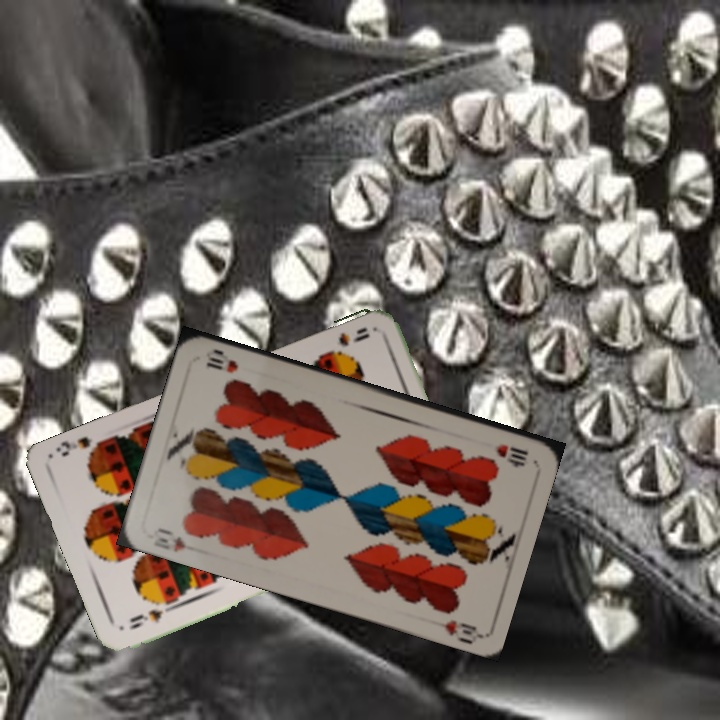H10: (149, 523, 189, 554), (492, 440, 531, 466)
S9: (321, 323, 372, 358), (125, 598, 176, 632)
